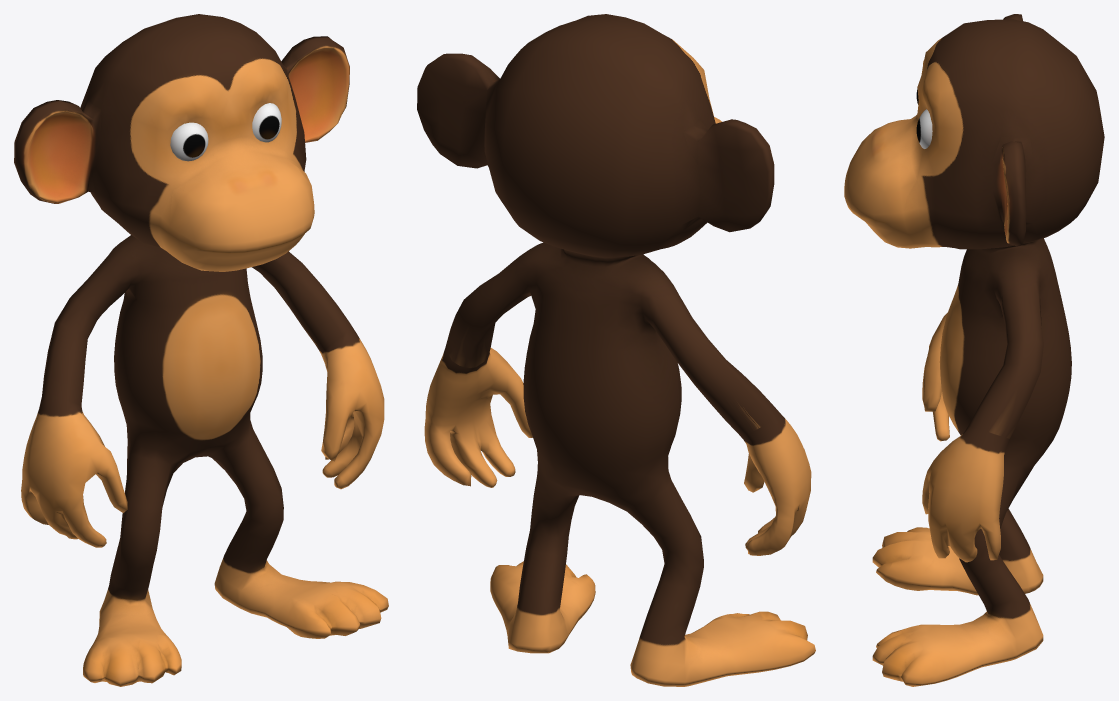
File: Monkey.obj
3 views of the same model, side by side, from view 1: azimuth 30°, elevation 25°; view 2: azimuth 150°, elevation 25°; view 3: azimuth 270°, elevation 25° (orthographic). The views are drawn at different scales.
Parts seen in each view (by area): view 1: Monkeys; view 2: Monkeys; view 3: Monkeys.
Part boxes in pixels (x1,y1,x2,y2): Monkeys: (14, 14, 388, 686); Monkeys: (417, 14, 815, 686); Monkeys: (844, 14, 1104, 686).
Size of the model in its own units: 109 by 180 by 71.6.
